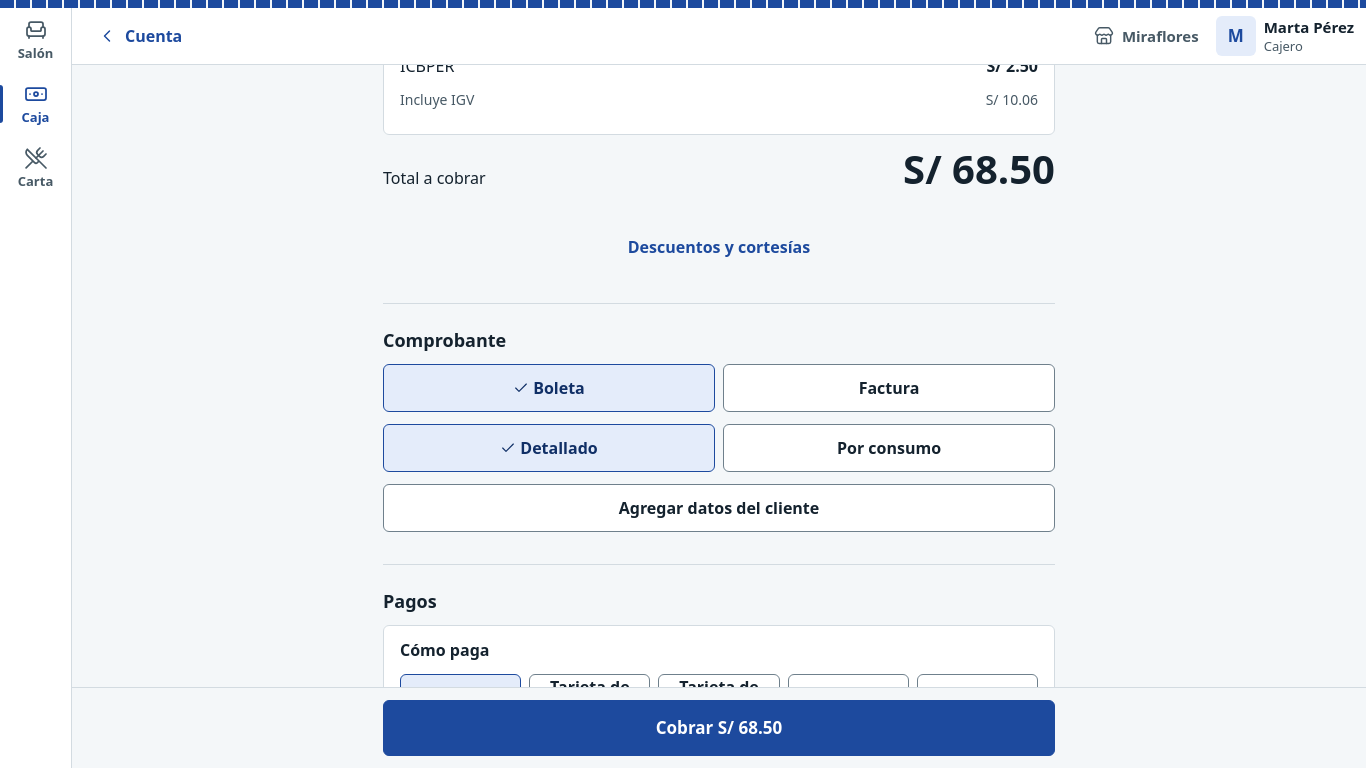
Scenario: Comprobante y cliente (criterio 51) › la factura exige RUC, razón social y dirección: sin ellos no cobra y marca cada campo
(page scrolled)
Expected: the button named "Cobrar S/ 68.50" is shown, [383,700,1055,756]
Step 1. Click the button "Factura" → (889, 388), box [723,364,1055,412]
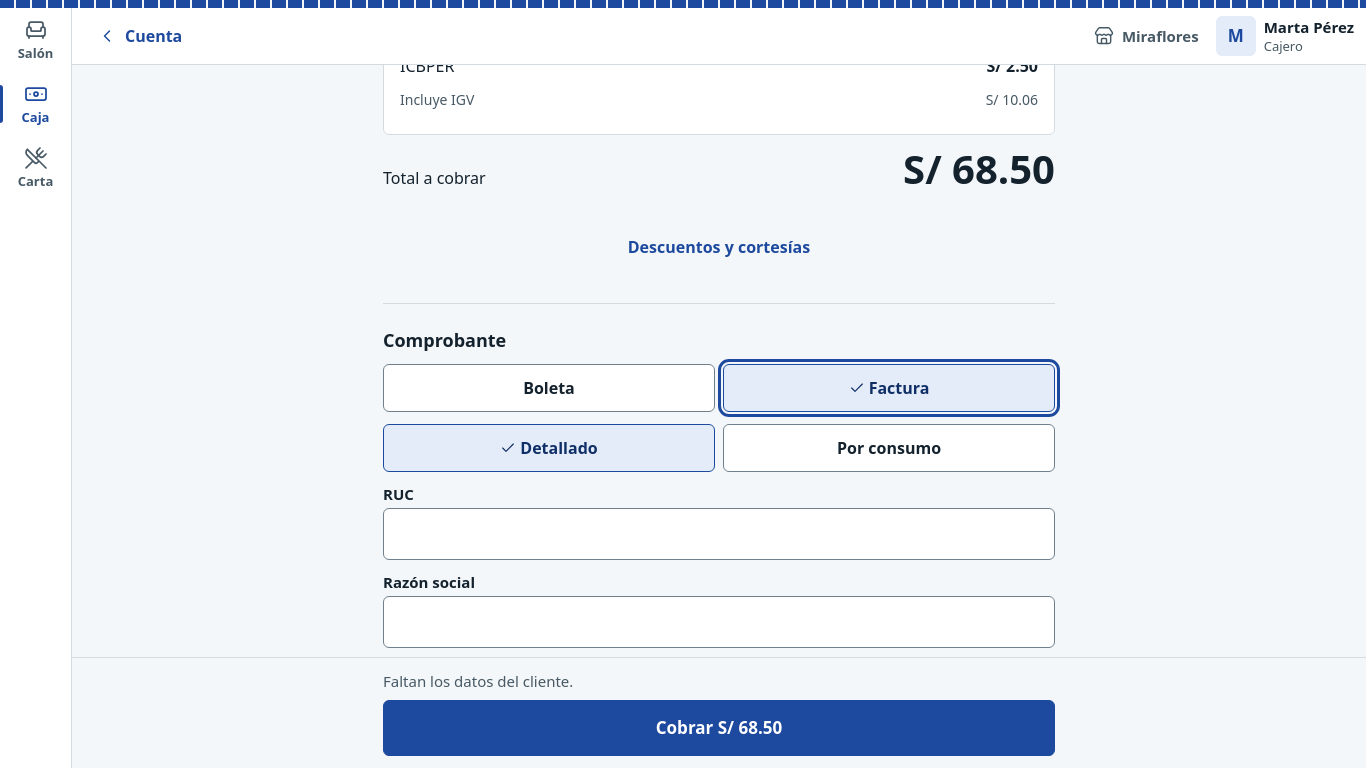
Step 2. Click the button named "Cobrar S/ 68.50" → (719, 728), box [383,700,1055,756]
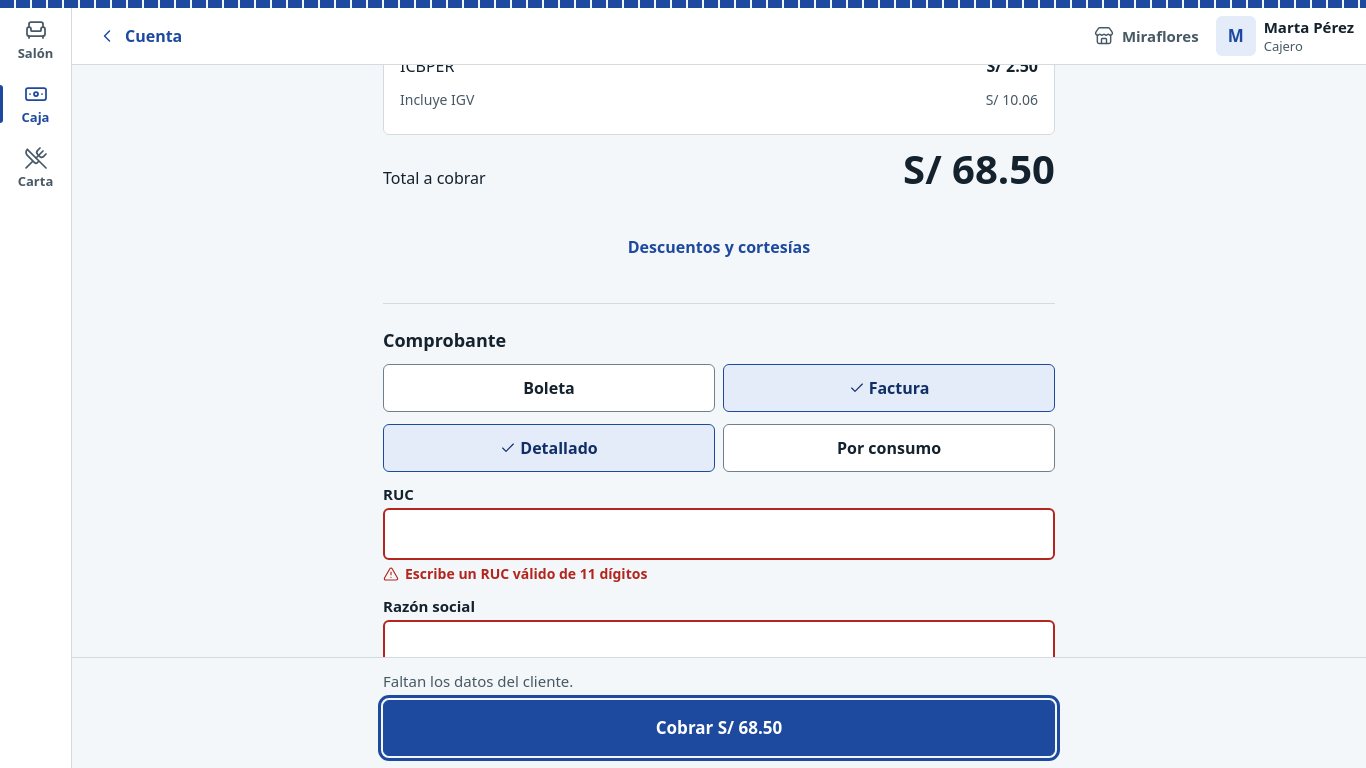
Result: the text "Escribe un RUC válido de 11 dígitos" is shown at [405,564,647,584]
Result: the text "Escribe la razón social" is shown at [405,676,558,696]
Step 3. Type "20100070970" into the field labelled "RUC" → (719, 534), box [385,510,1053,558]
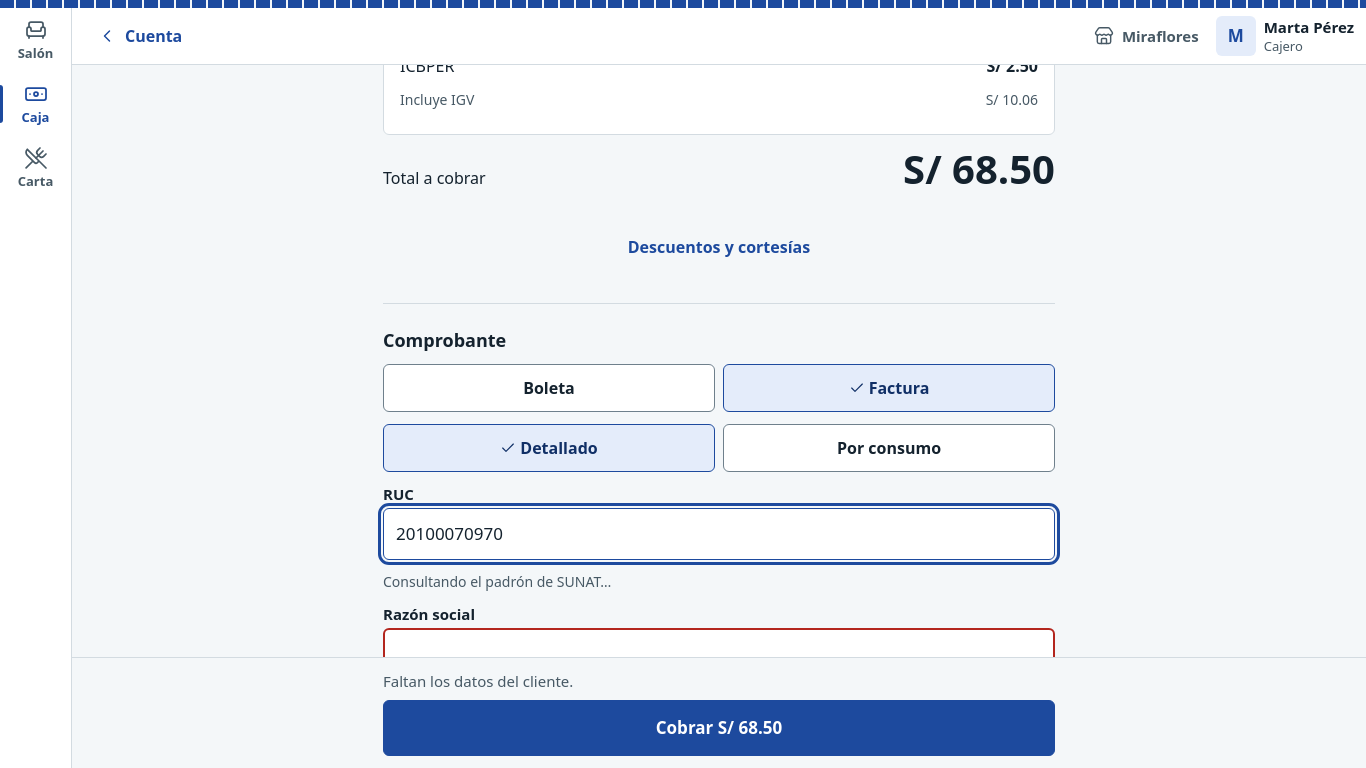
Step 4. Type "Supermercados Peruanos S.A." into the field labelled "Razón social" → (719, 654), box [385,630,1053,678]
(page scrolled)
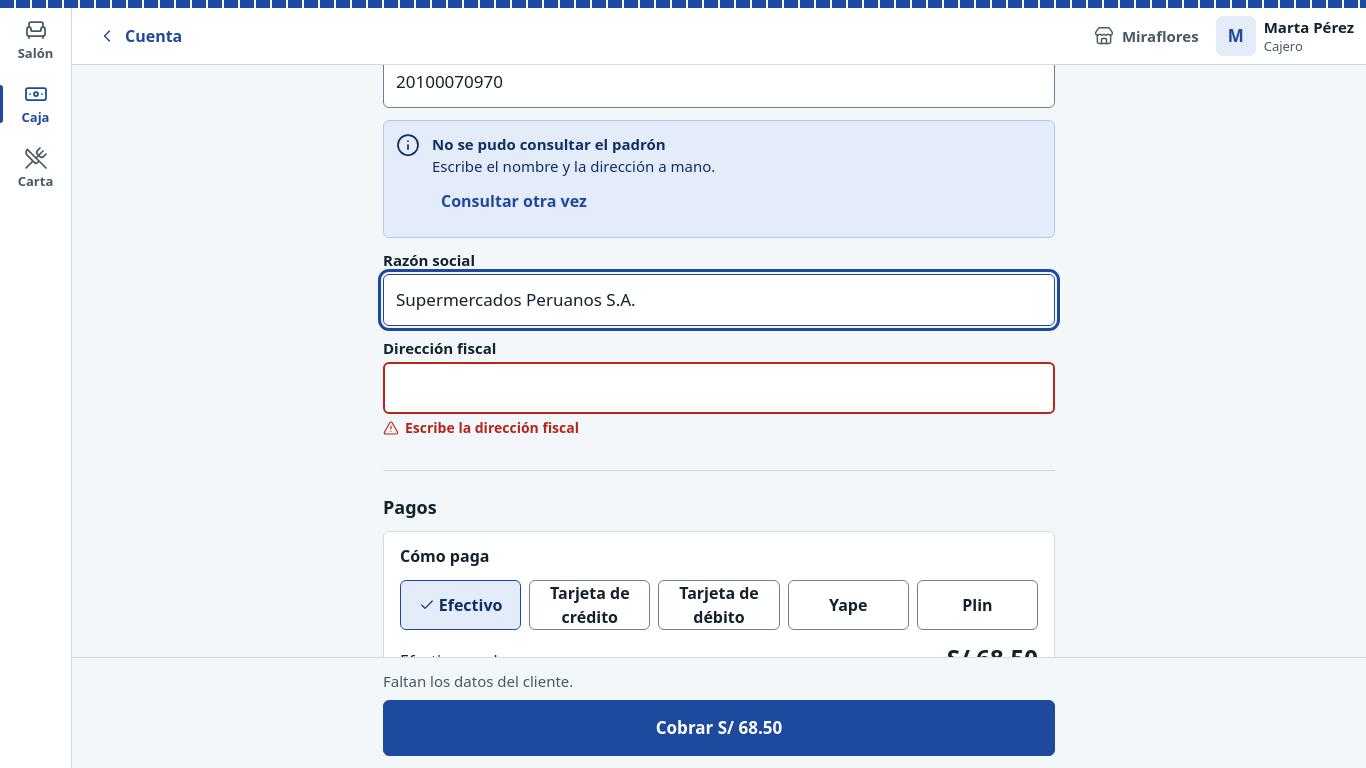
Step 5. Type "Av. Principal 123, Lima" into the field labelled "Dirección fiscal" → (719, 388), box [385,364,1053,412]
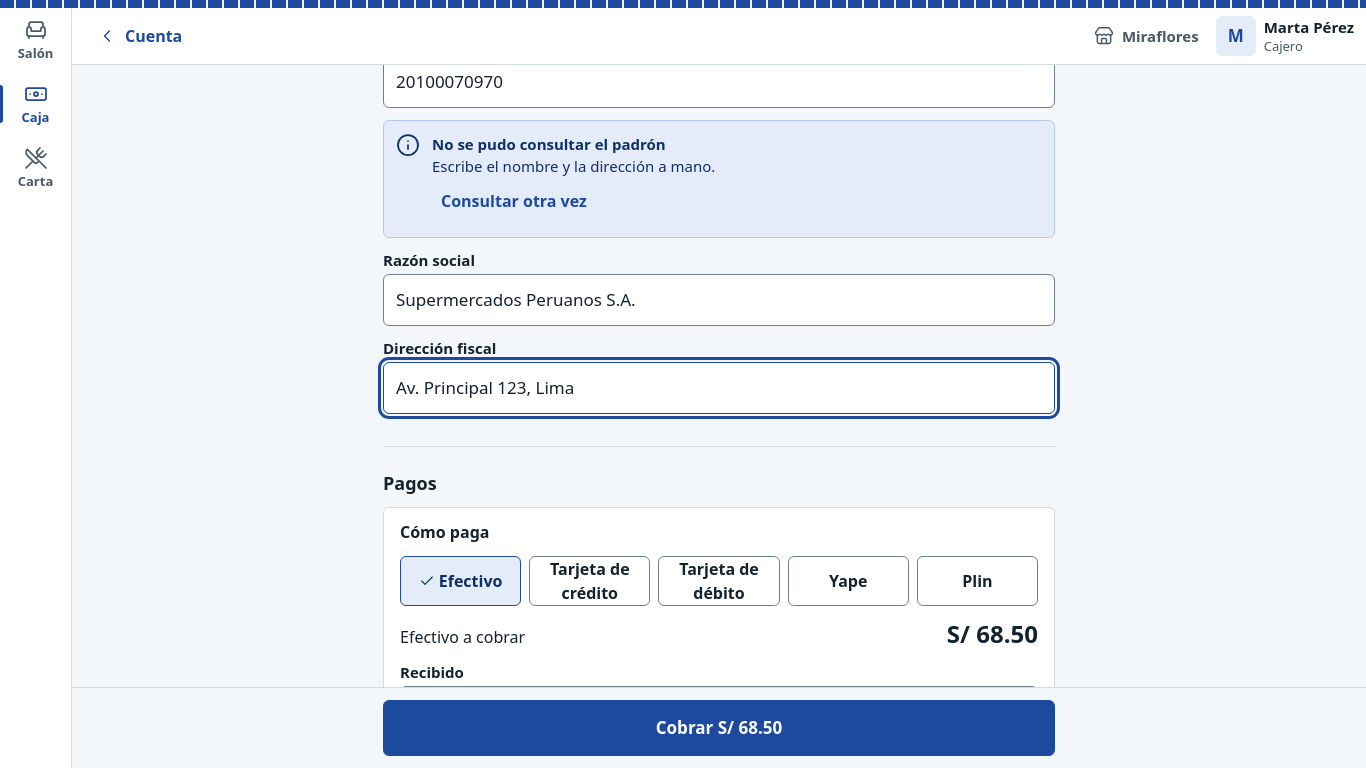
Step 6. Click the button named "Cobrar S/ 68.50" → (719, 728), box [383,700,1055,756]
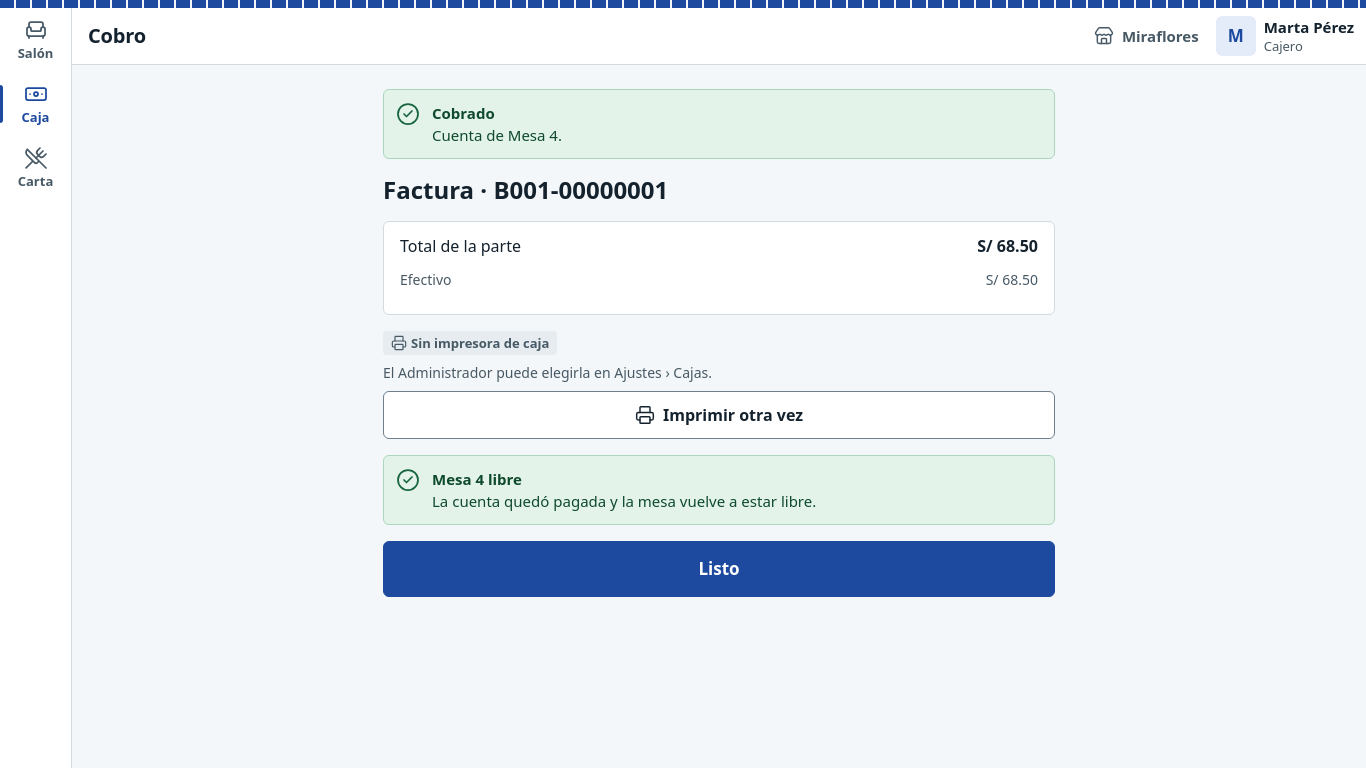
Result: the text "Factura · B001-00000001" is shown at [383,173,668,206]
